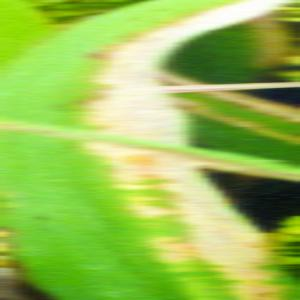Bacterial_Blight: (3, 43, 182, 280)
